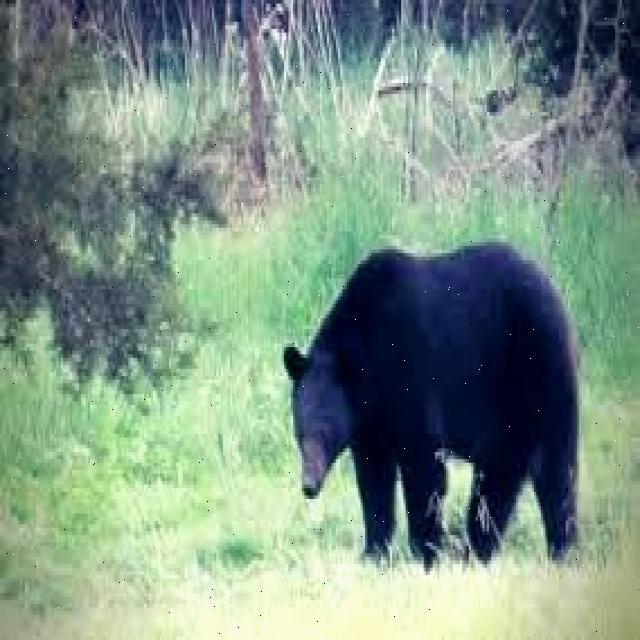bear: (292, 248, 589, 547)
